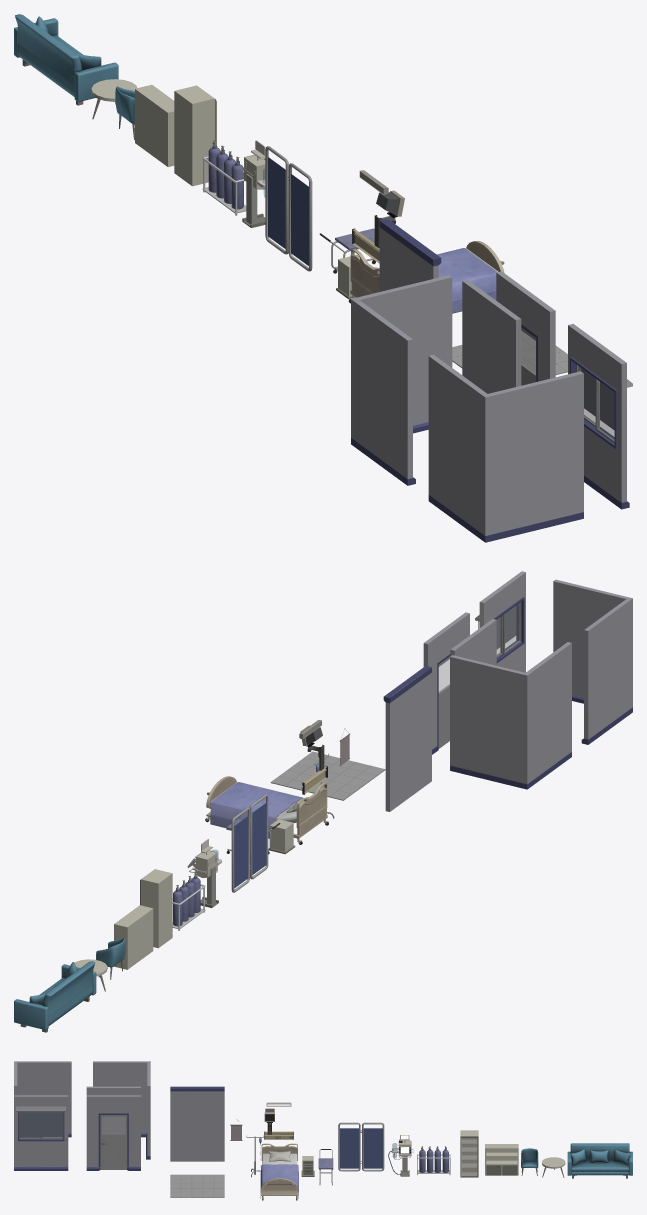
The model's file is hospital.glb.
The picture shows the model from 3 angles, top to bottom: view 1: azimuth 30°, elevation 25°; view 2: azimuth 150°, elevation 25°; view 3: azimuth 270°, elevation 25°; orthographic projection. The views are drawn at different scales.
Visible parts, largest first — view 1: Wall1-material, Wall2-material, WindowWall-material, Wall3-material, Sofa-material, Curtain-material, Bed-material, Cabinet1-material, Wall5-material, DoorWall-material, Cabinet2-material, OxygenTube-material (+3 smaller); view 2: Wall2-material, Wall1-material, Wall5-material, Bed-material, WindowWall-material, Sofa-material, Curtain-material, Ground-material, DoorWall-material, Cabinet1-material, Cabinet2-material, Wall3-material (+4 smaller); view 3: WindowWall-material, Wall5-material, DoorWall-material, Wall1-material, Curtain-material, Sofa-material, Wall2-material, Bed-material, Door-material, Ground-material, Cabinet2-material, Wall3-material (+10 smaller).
Boxes of the visible parts, x1=… form: Wall1-material: x1=428, y1=354, x2=583, y2=542; Wall2-material: x1=351, y1=275, x2=452, y2=485; WindowWall-material: x1=568, y1=323, x2=632, y2=509; Wall3-material: x1=462, y1=279, x2=521, y2=393; Sofa-material: x1=14, y1=14, x2=118, y2=105; Curtain-material: x1=265, y1=146, x2=312, y2=271; Bed-material: x1=348, y1=241, x2=504, y2=313; Cabinet1-material: x1=174, y1=85, x2=214, y2=186; Wall5-material: x1=379, y1=218, x2=441, y2=291; DoorWall-material: x1=496, y1=271, x2=555, y2=381; Cabinet2-material: x1=135, y1=84, x2=174, y2=166; OxygenTube-material: x1=202, y1=140, x2=246, y2=215; Wall2-material: x1=450, y1=642, x2=571, y2=789; Wall1-material: x1=553, y1=579, x2=632, y2=744; Wall5-material: x1=383, y1=666, x2=431, y2=811; Bed-material: x1=205, y1=776, x2=328, y2=844; WindowWall-material: x1=475, y1=571, x2=525, y2=672; Sofa-material: x1=14, y1=961, x2=96, y2=1032; Curtain-material: x1=231, y1=794, x2=268, y2=892; Ground-material: x1=270, y1=751, x2=385, y2=800; DoorWall-material: x1=423, y1=612, x2=469, y2=754; Cabinet1-material: x1=141, y1=869, x2=172, y2=948; Cabinet2-material: x1=114, y1=905, x2=153, y2=969; Wall3-material: x1=450, y1=619, x2=496, y2=665; WindowWall-material: x1=14, y1=1095, x2=68, y2=1170; Wall5-material: x1=170, y1=1086, x2=224, y2=1161; DoorWall-material: x1=86, y1=1095, x2=140, y2=1170; Wall1-material: x1=14, y1=1061, x2=71, y2=1137; Curtain-material: x1=338, y1=1122, x2=384, y2=1171; Sofa-material: x1=567, y1=1143, x2=632, y2=1178; Wall2-material: x1=93, y1=1061, x2=150, y2=1159; Bed-material: x1=260, y1=1143, x2=298, y2=1200; Door-material: x1=100, y1=1115, x2=127, y2=1169; Ground-material: x1=170, y1=1174, x2=224, y2=1197; Cabinet2-material: x1=485, y1=1144, x2=518, y2=1175; Wall3-material: x1=86, y1=1086, x2=140, y2=1133.
Bounding box in the file's own units: 0.9374 × 0.491 × 3.7.
30 materials, 30 textured.
